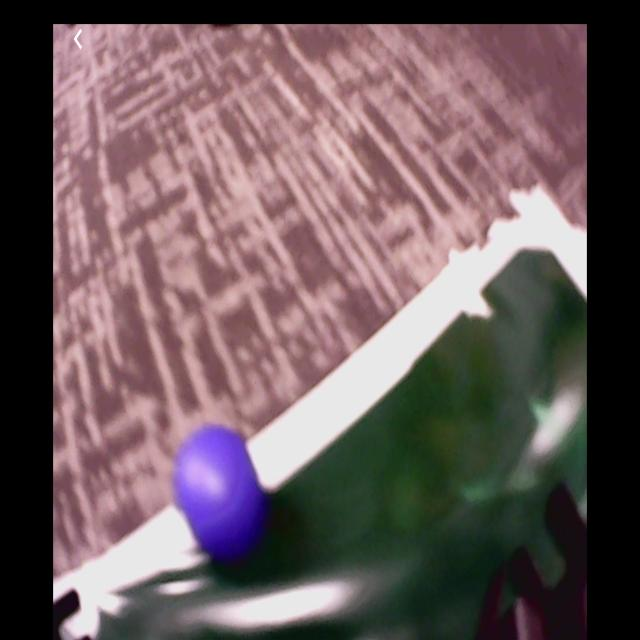ball: (177, 430, 261, 558)
